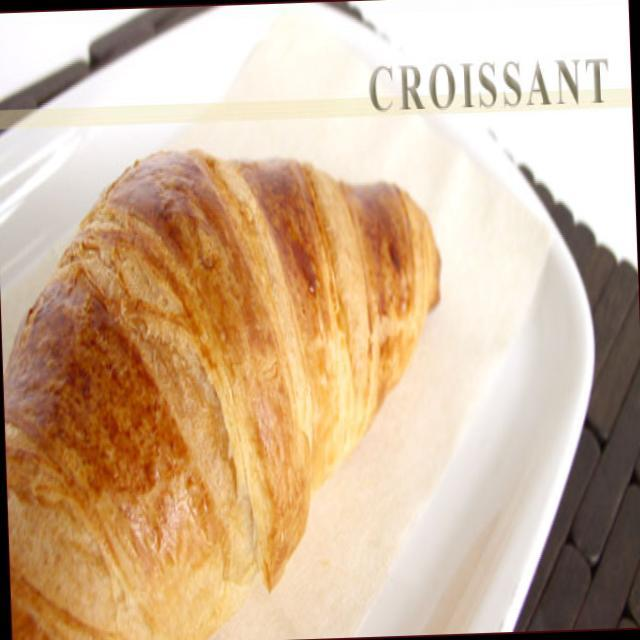Croissant: (0, 128, 467, 640)
